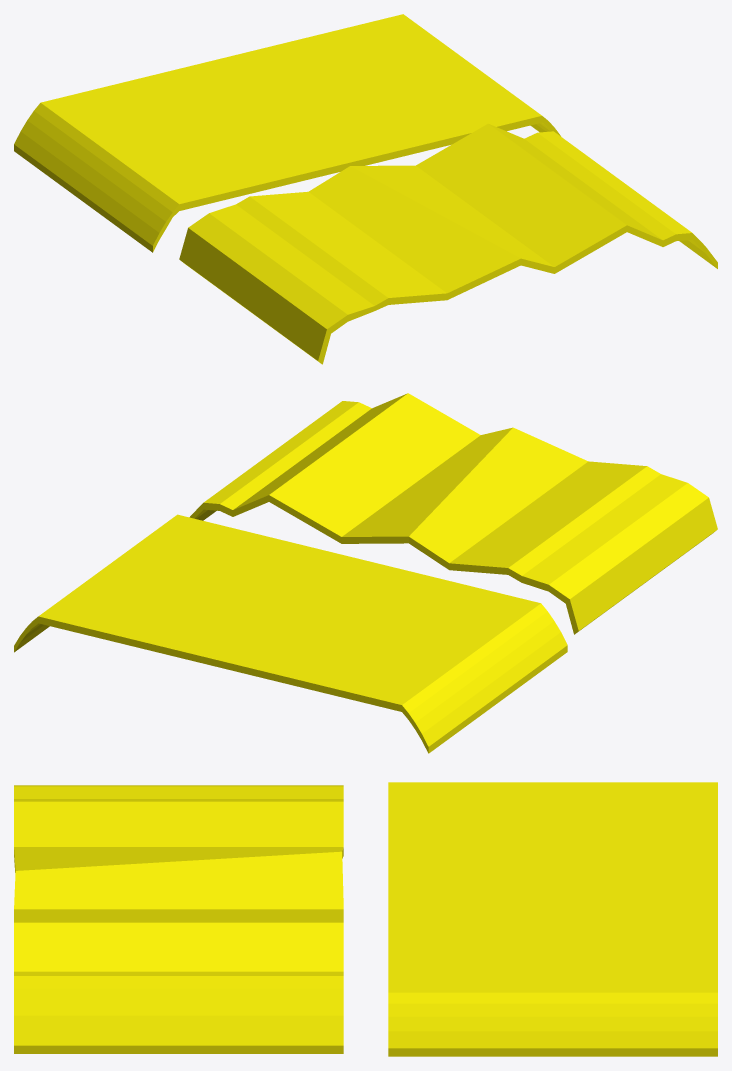
The model's file is umgebung_decke_low.FBX.
3 renders of one model, top to bottom at view 1: azimuth 30°, elevation 25°; view 2: azimuth 150°, elevation 25°; view 3: azimuth 270°, elevation 25°, orthographic. The views are drawn at different scales.
Visible parts, largest first — view 1: o_decke_ordentlich_low, o_decke_unordentlich_low; view 2: o_decke_ordentlich_low, o_decke_unordentlich_low; view 3: o_decke_ordentlich_low, o_decke_unordentlich_low.
Part boxes in pixels (left/top/right/bottom): o_decke_ordentlich_low: left=14, top=14, right=560, bottom=252; o_decke_unordentlich_low: left=179, top=123, right=717, bottom=364; o_decke_ordentlich_low: left=14, top=514, right=567, bottom=753; o_decke_unordentlich_low: left=189, top=393, right=717, bottom=634; o_decke_ordentlich_low: left=388, top=782, right=717, bottom=1056; o_decke_unordentlich_low: left=14, top=785, right=343, bottom=1053.
Bounding box in the file's own units: 136 × 169 × 20.83.
